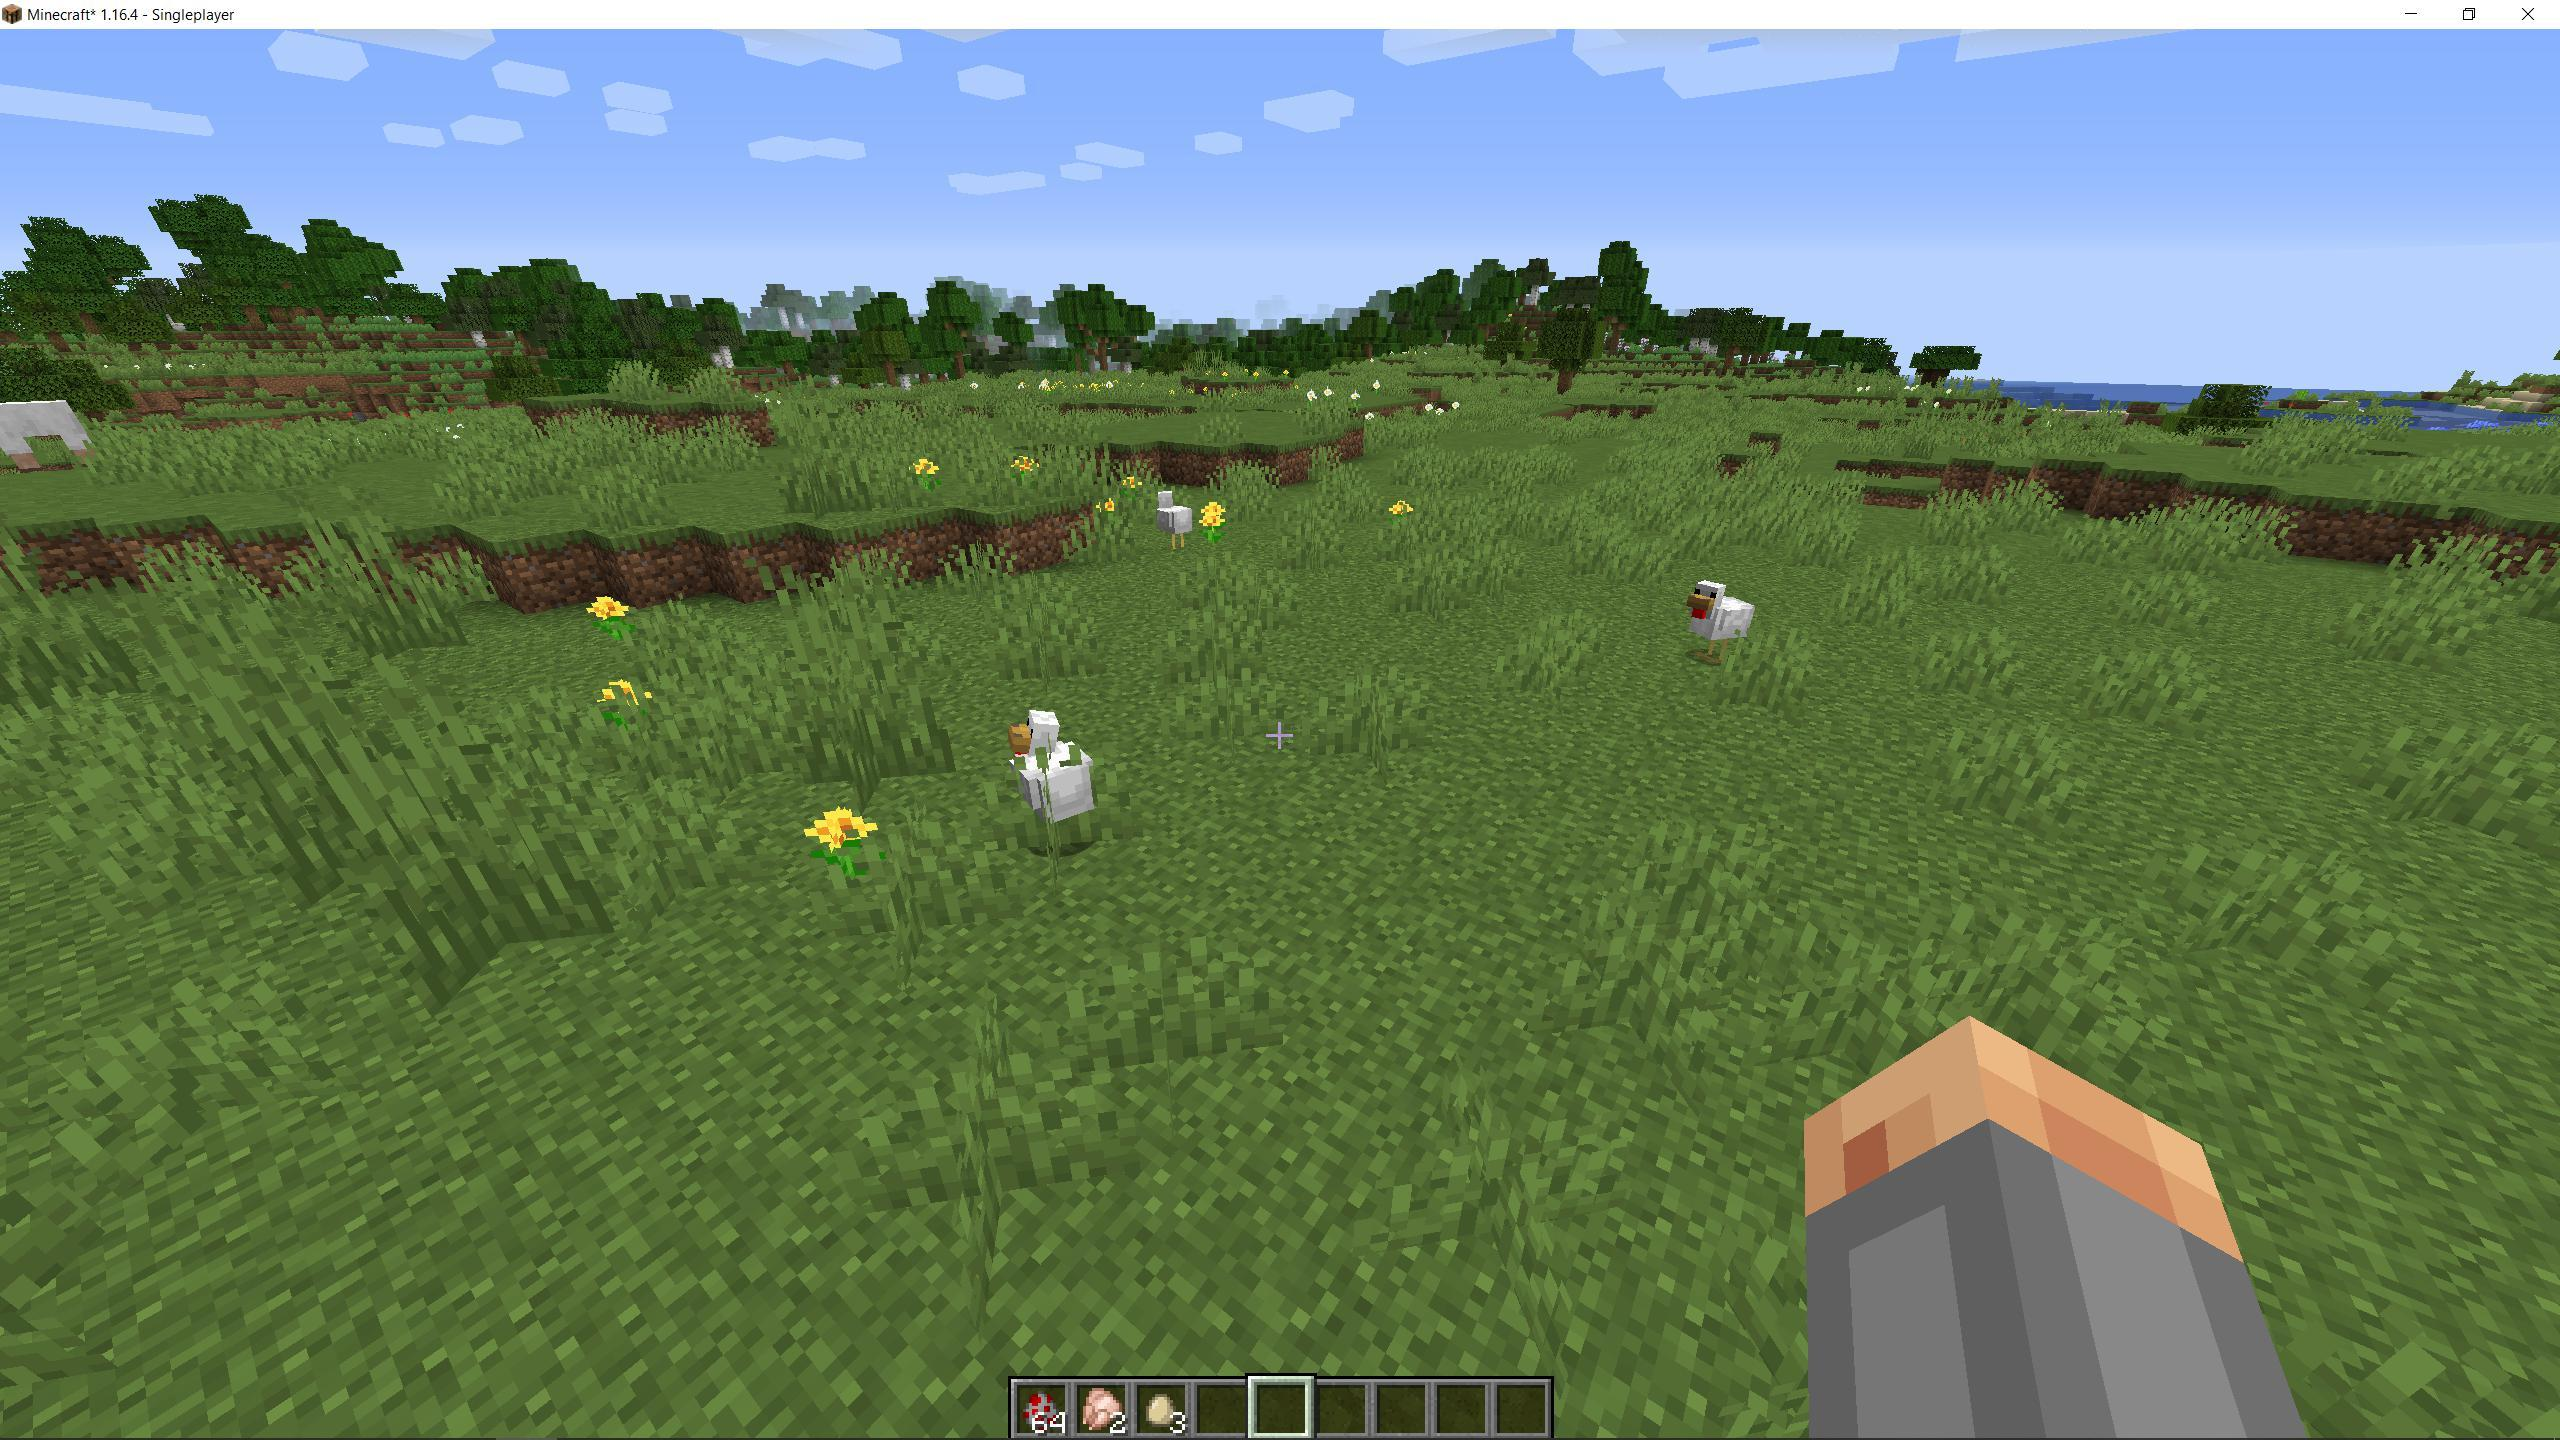chicken: (1006, 702, 1109, 853), (1670, 570, 1762, 684), (1153, 485, 1206, 556)
